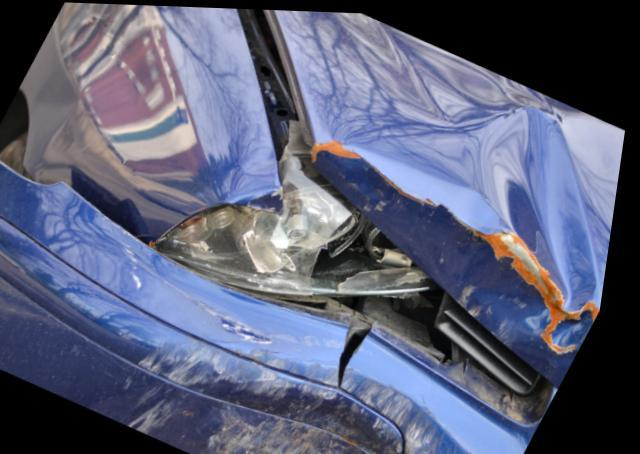crack: (350, 320, 383, 390)
dent: (323, 10, 628, 381), (143, 345, 484, 454)
dislocated part: (152, 157, 566, 427), (230, 7, 325, 183)
lamp broken: (154, 157, 440, 298)
scratch: (130, 336, 219, 390)
